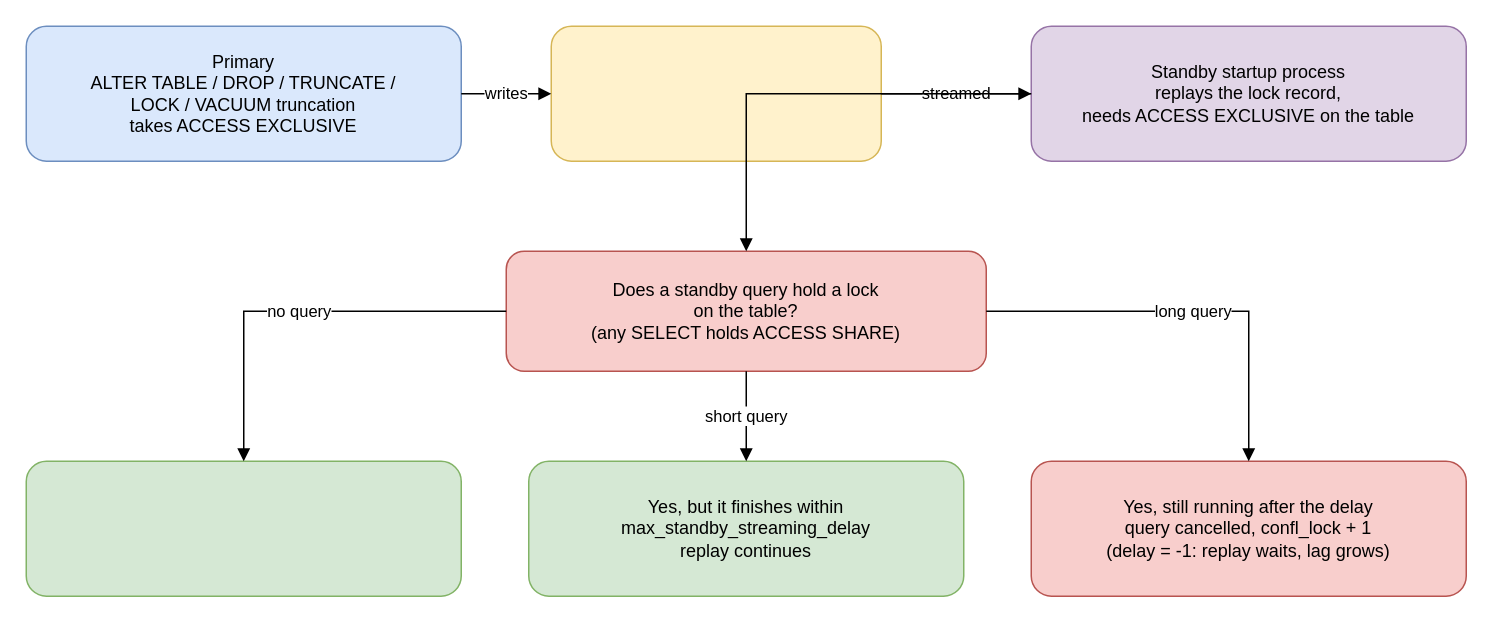
Some shapes in this 1493 by 623 pixel diagram are drawn without their labels. Each missing label, with the box of its shape:
No lock granted, change replayed: (25, 460, 461, 596)
WAL lock record + the change: (550, 25, 881, 161)
